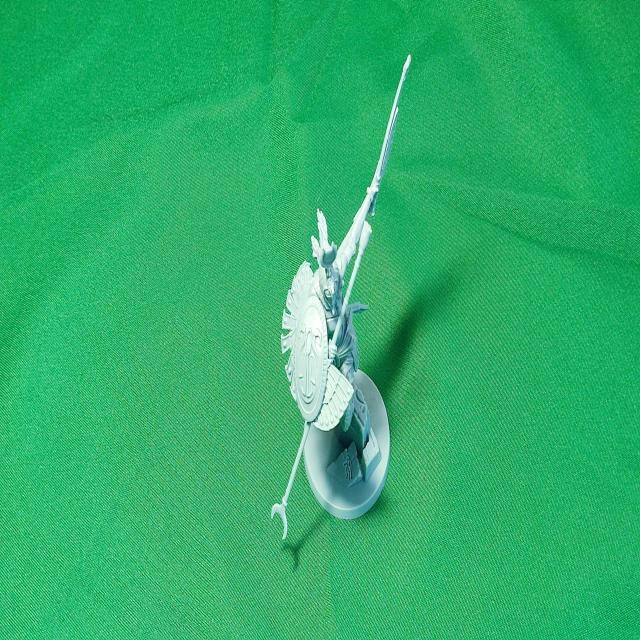isis: (248, 0, 426, 640)
